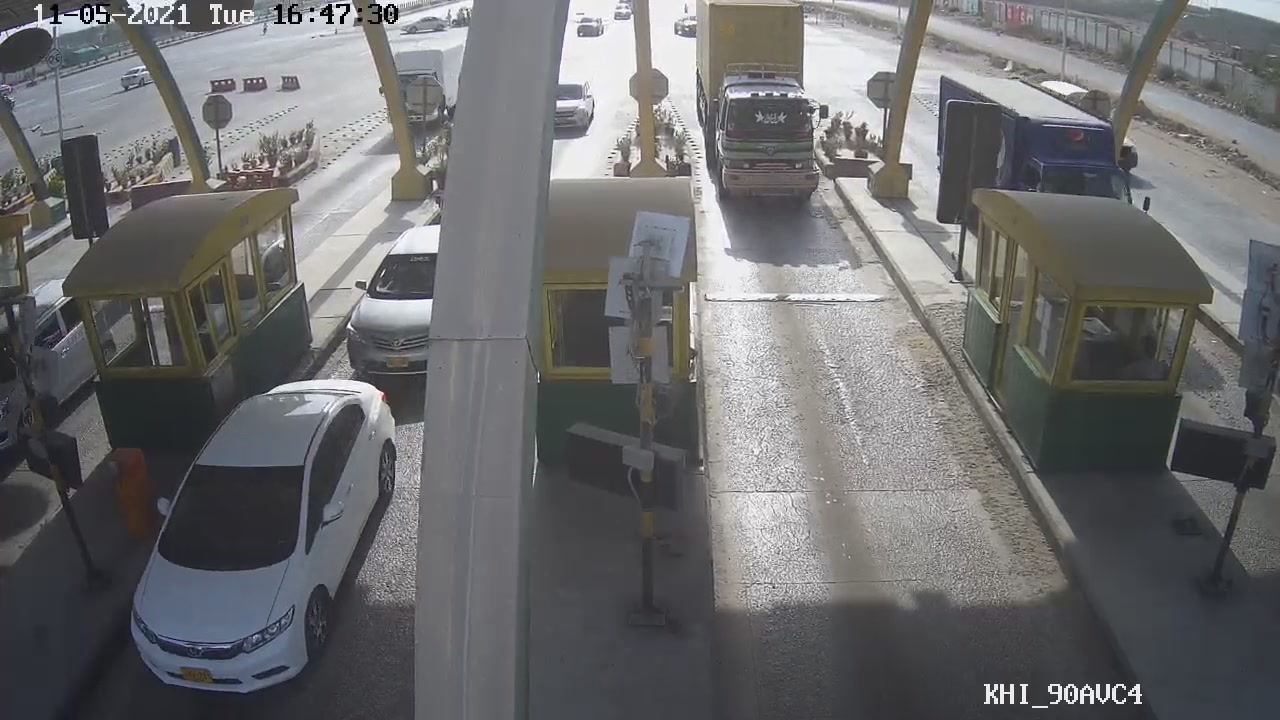F6: (686, 1, 838, 211)
